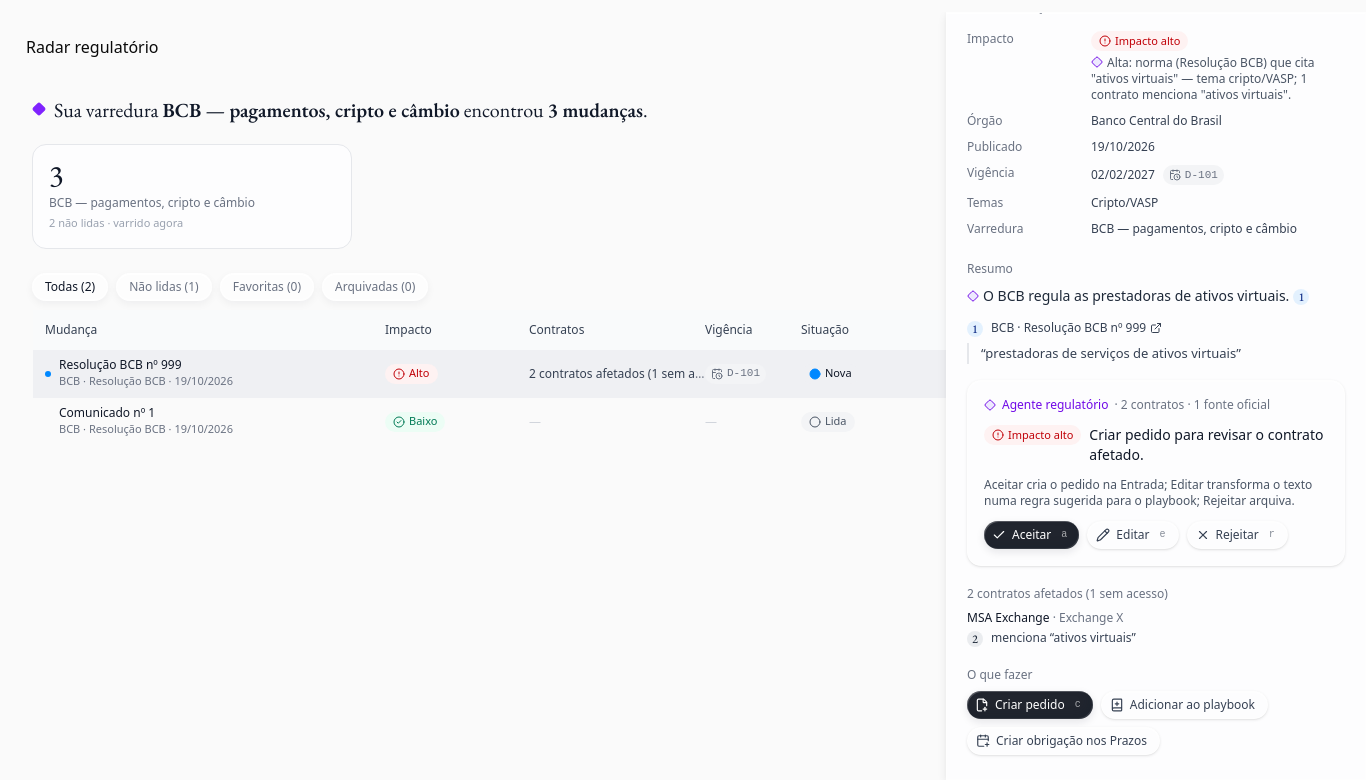
RegulatoryRadarView › suggests a playbook rule an admin approves, never writing the playbook
This screenshot has width=1366, height=780.
(page scrolled)
Click the 5th button named "Adicionar ao playbook" at (1184, 705), box [1101,691,1268,719]
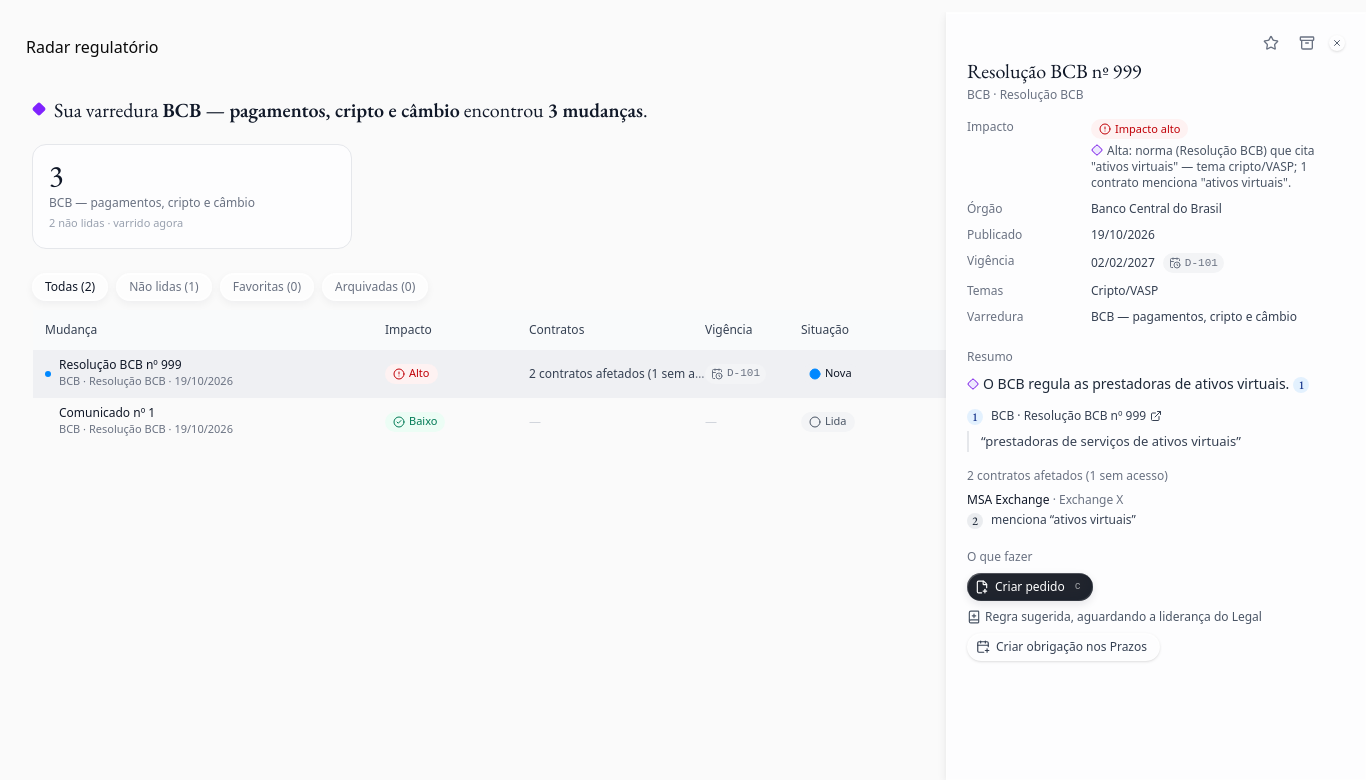
Expected: the text "Regra sugerida, aguardando a liderança do Legal" is shown, [967,609,1262,625]
